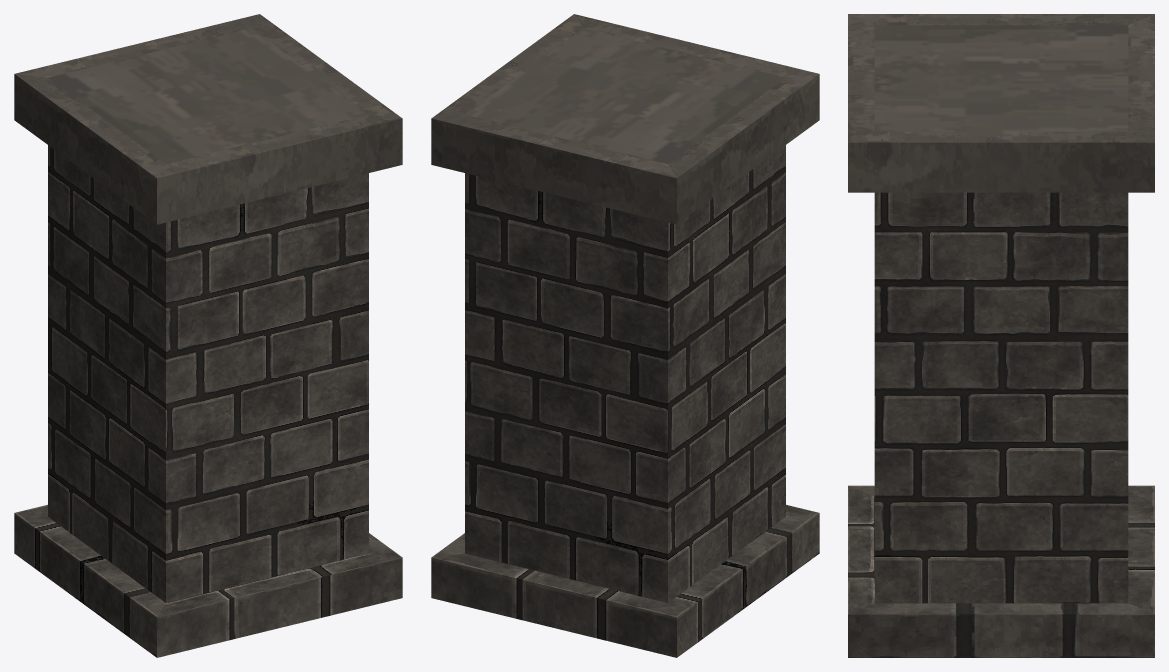
The model's file is BrickPillar02.fbx.
The picture shows the model from 3 angles, left to right: view 1: azimuth 30°, elevation 25°; view 2: azimuth 150°, elevation 25°; view 3: azimuth 270°, elevation 25°; orthographic projection. The views are drawn at different scales.
Visible parts, largest first — view 1: Cylinder; view 2: Cylinder; view 3: Cylinder.
Boxes of the visible parts, x1,y1,x2,y2 form: Cylinder: (14, 14, 402, 657); Cylinder: (431, 14, 819, 657); Cylinder: (848, 14, 1154, 657).
Bounding box in the file's own units: 1.27 × 2.38 × 1.28.
1 material, 1 textured.
